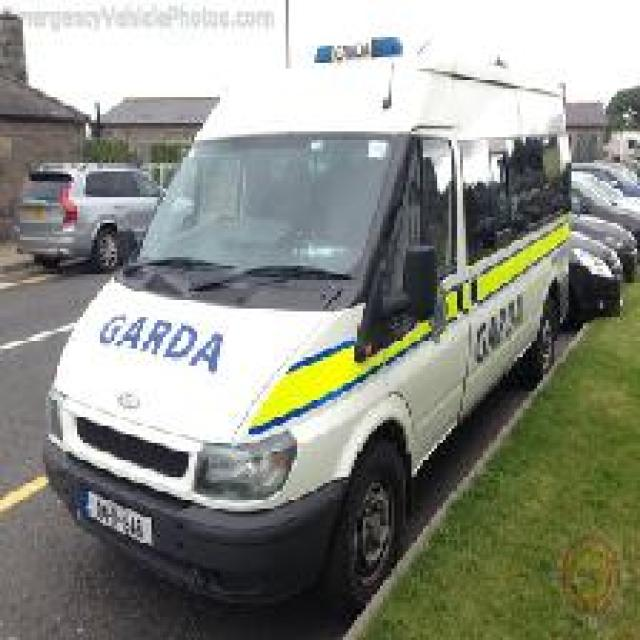Ambulance: (40, 31, 620, 612)
